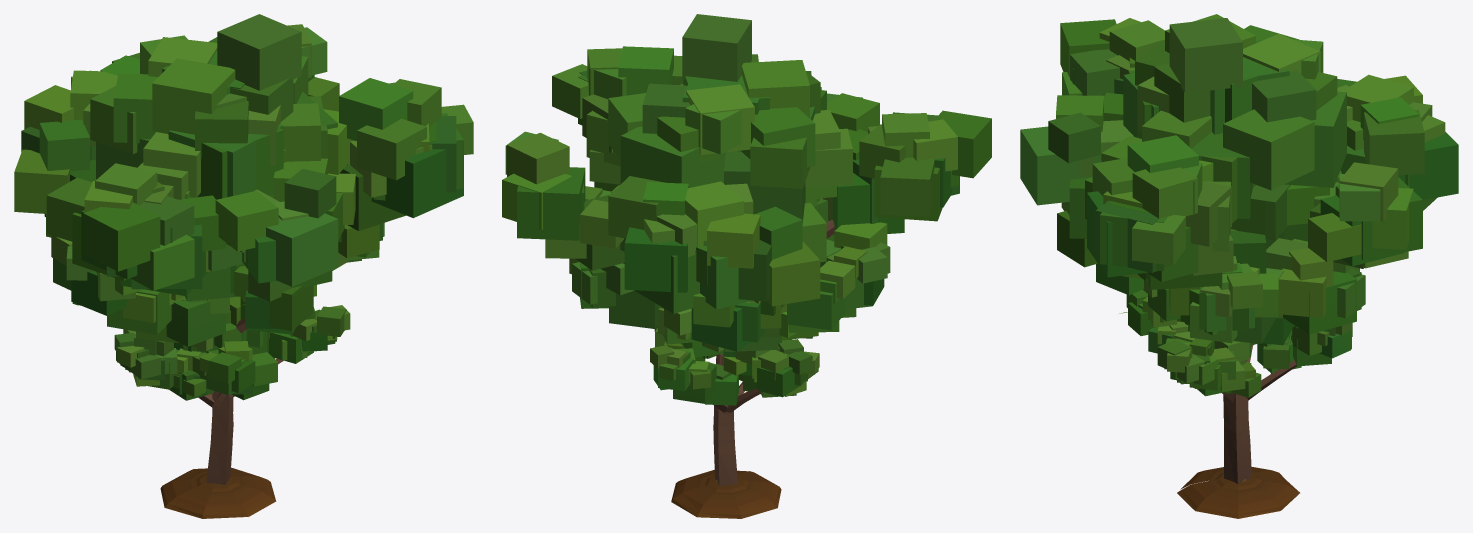
The model's file is nectarine.glb.
3 renders of one model, left to right at view 1: azimuth 30°, elevation 25°; view 2: azimuth 150°, elevation 25°; view 3: azimuth 270°, elevation 25°, orthographic. The views are drawn at different scales.
Parts seen in each view (by area): view 1: stage4_foliage, stage4_l1_foliage, stage3_foliage, stage2_foliage, stage2_soil, stage2_l1_foliage, stage3_l1_foliage, stage4_l1_bark, stage4_bark; view 2: stage4_foliage, stage4_l1_foliage, stage3_foliage, stage2_foliage, stage2_soil, stage3_l1_foliage, stage4_bark, stage2_l1_foliage, stage4_l1_bark; view 3: stage4_foliage, stage4_l1_foliage, stage3_foliage, stage2_foliage, stage2_soil, stage3_l1_foliage, stage2_l1_foliage, stage4_bark, stage4_l1_bark.
Part boxes in pixels (x1,y1,x2,y2): stage4_foliage: (14,14,473,301); stage4_l1_foliage: (90,37,463,293); stage3_foliage: (46,214,384,346); stage2_foliage: (116,305,350,400); stage2_soil: (160,467,276,518); stage2_l1_foliage: (114,296,346,396); stage3_l1_foliage: (51,223,382,342); stage4_l1_bark: (206,391,233,484); stage4_bark: (210,394,233,483); stage4_foliage: (502,14,991,315); stage4_l1_foliage: (578,54,959,313); stage3_foliage: (569,185,890,351); stage2_foliage: (650,328,818,405); stage2_soil: (671,470,781,518); stage3_l1_foliage: (585,186,855,340); stage4_bark: (713,221,834,485); stage2_l1_foliage: (654,326,819,385); stage4_l1_bark: (713,219,832,484); stage4_foliage: (1020,14,1432,289); stage4_l1_foliage: (1062,20,1458,281); stage3_foliage: (1057,202,1365,345); stage2_foliage: (1126,289,1352,397); stage2_soil: (1177,467,1299,518); stage3_l1_foliage: (1190,263,1275,343); stage2_l1_foliage: (1157,323,1261,397); stage4_bark: (1223,360,1251,483); stage4_l1_bark: (1224,360,1249,482).
Bounding box in the file's own units: 1.97 × 2.24 × 1.81.
